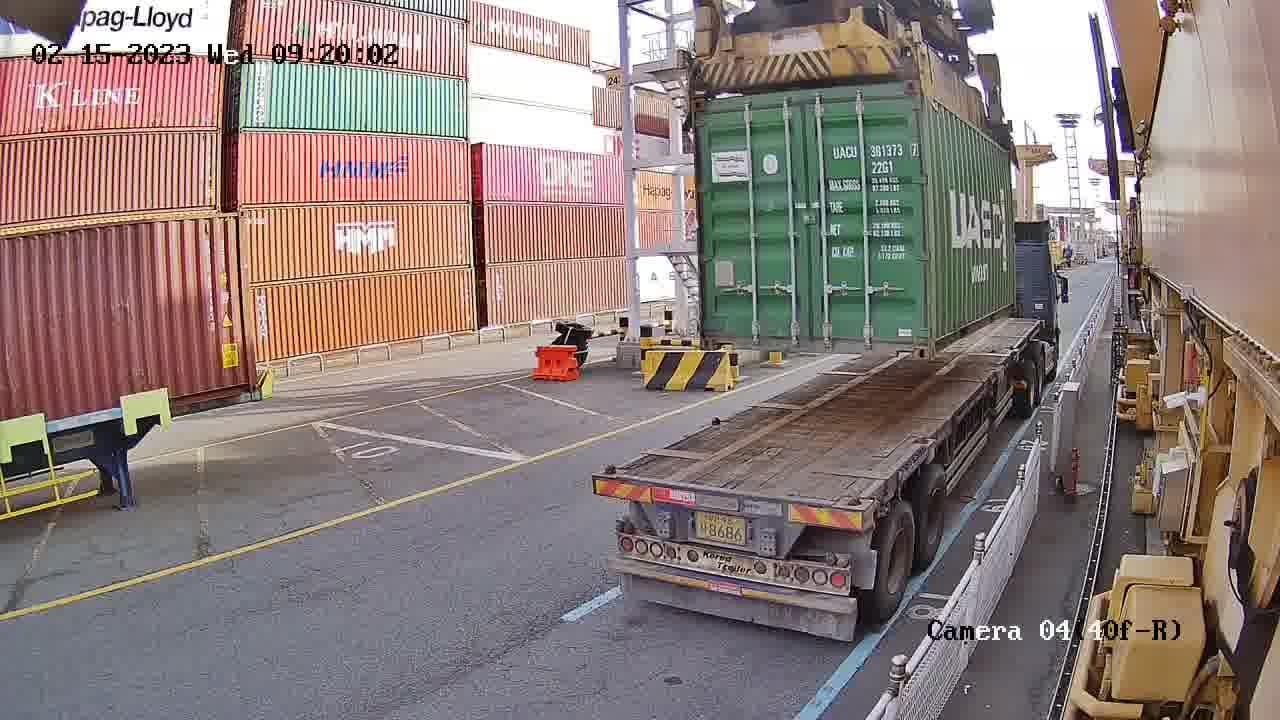Chassis: (592, 475, 866, 561)
Cone: (844, 495, 872, 533), (593, 460, 618, 499)
Hole_L: (701, 314, 735, 349)
Hole_R: (891, 315, 931, 358)
